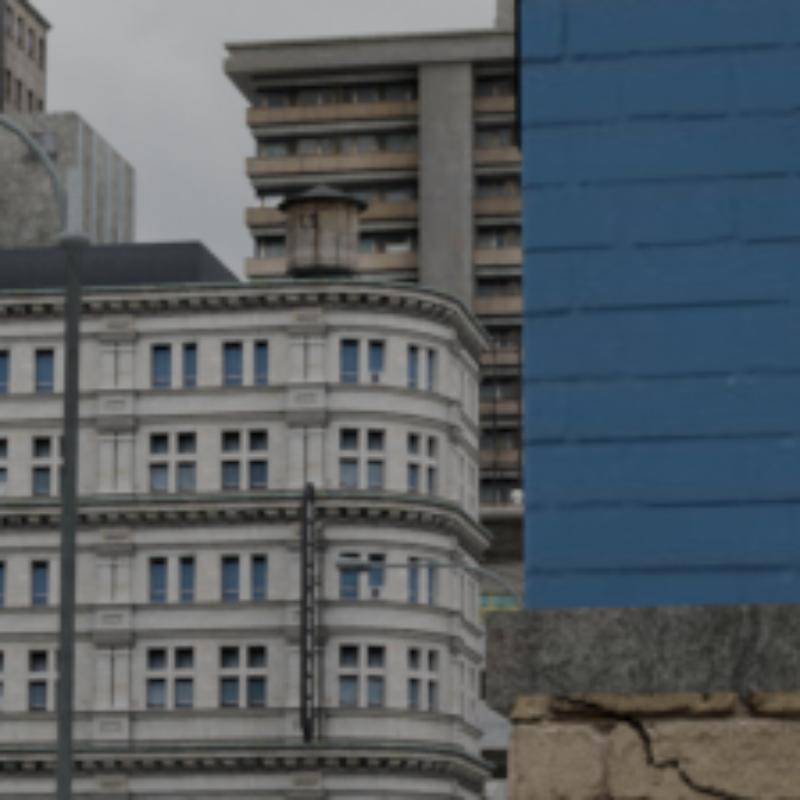pothole: (550, 696, 743, 796)
